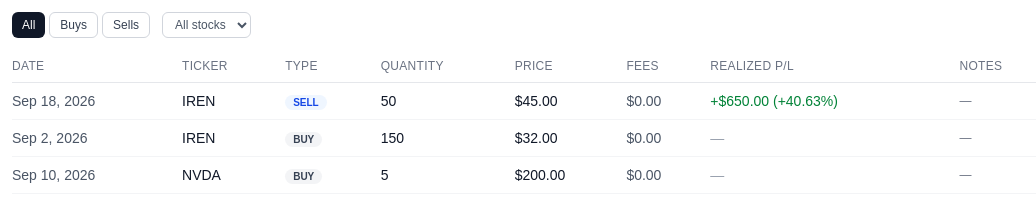
TransactionHistory › filters by stock
The image size is (1036, 211).
Select "NVDA" in the dropdown named "Filter by stock". click: (206, 25)
box: left=162, top=12, right=251, bottom=38
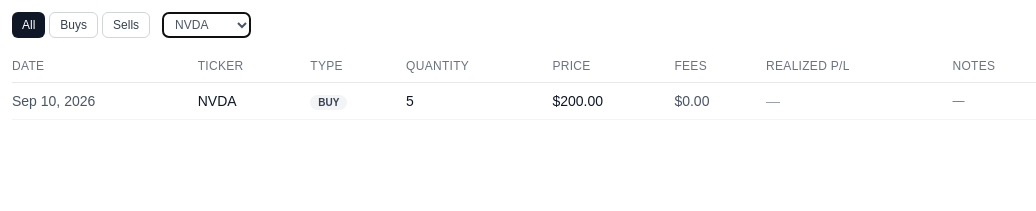
Expected: the row with test id "transaction-3" is shown, left=12, top=82, right=1035, bottom=120
Now the row with test id "transaction-2" is gone
